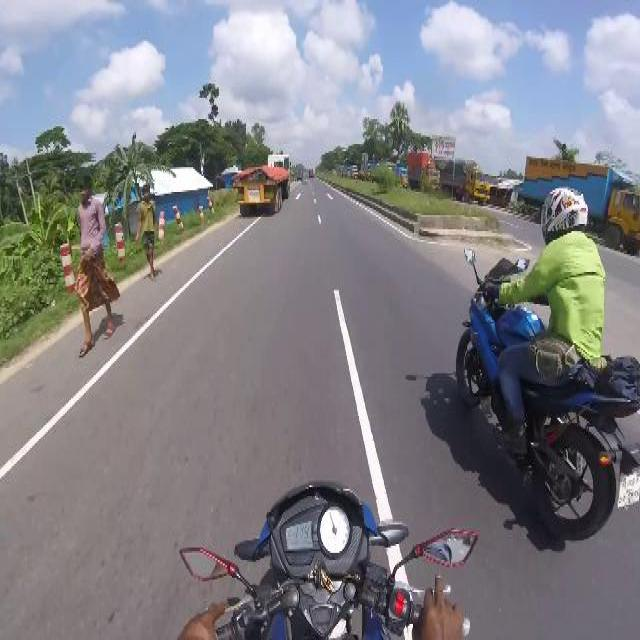10: (454, 189, 640, 536), (176, 478, 480, 638)
11: (392, 166, 406, 186)
18: (523, 152, 639, 253), (236, 150, 290, 212), (438, 158, 489, 204), (406, 151, 439, 190)
Truck: (296, 162, 302, 178)
